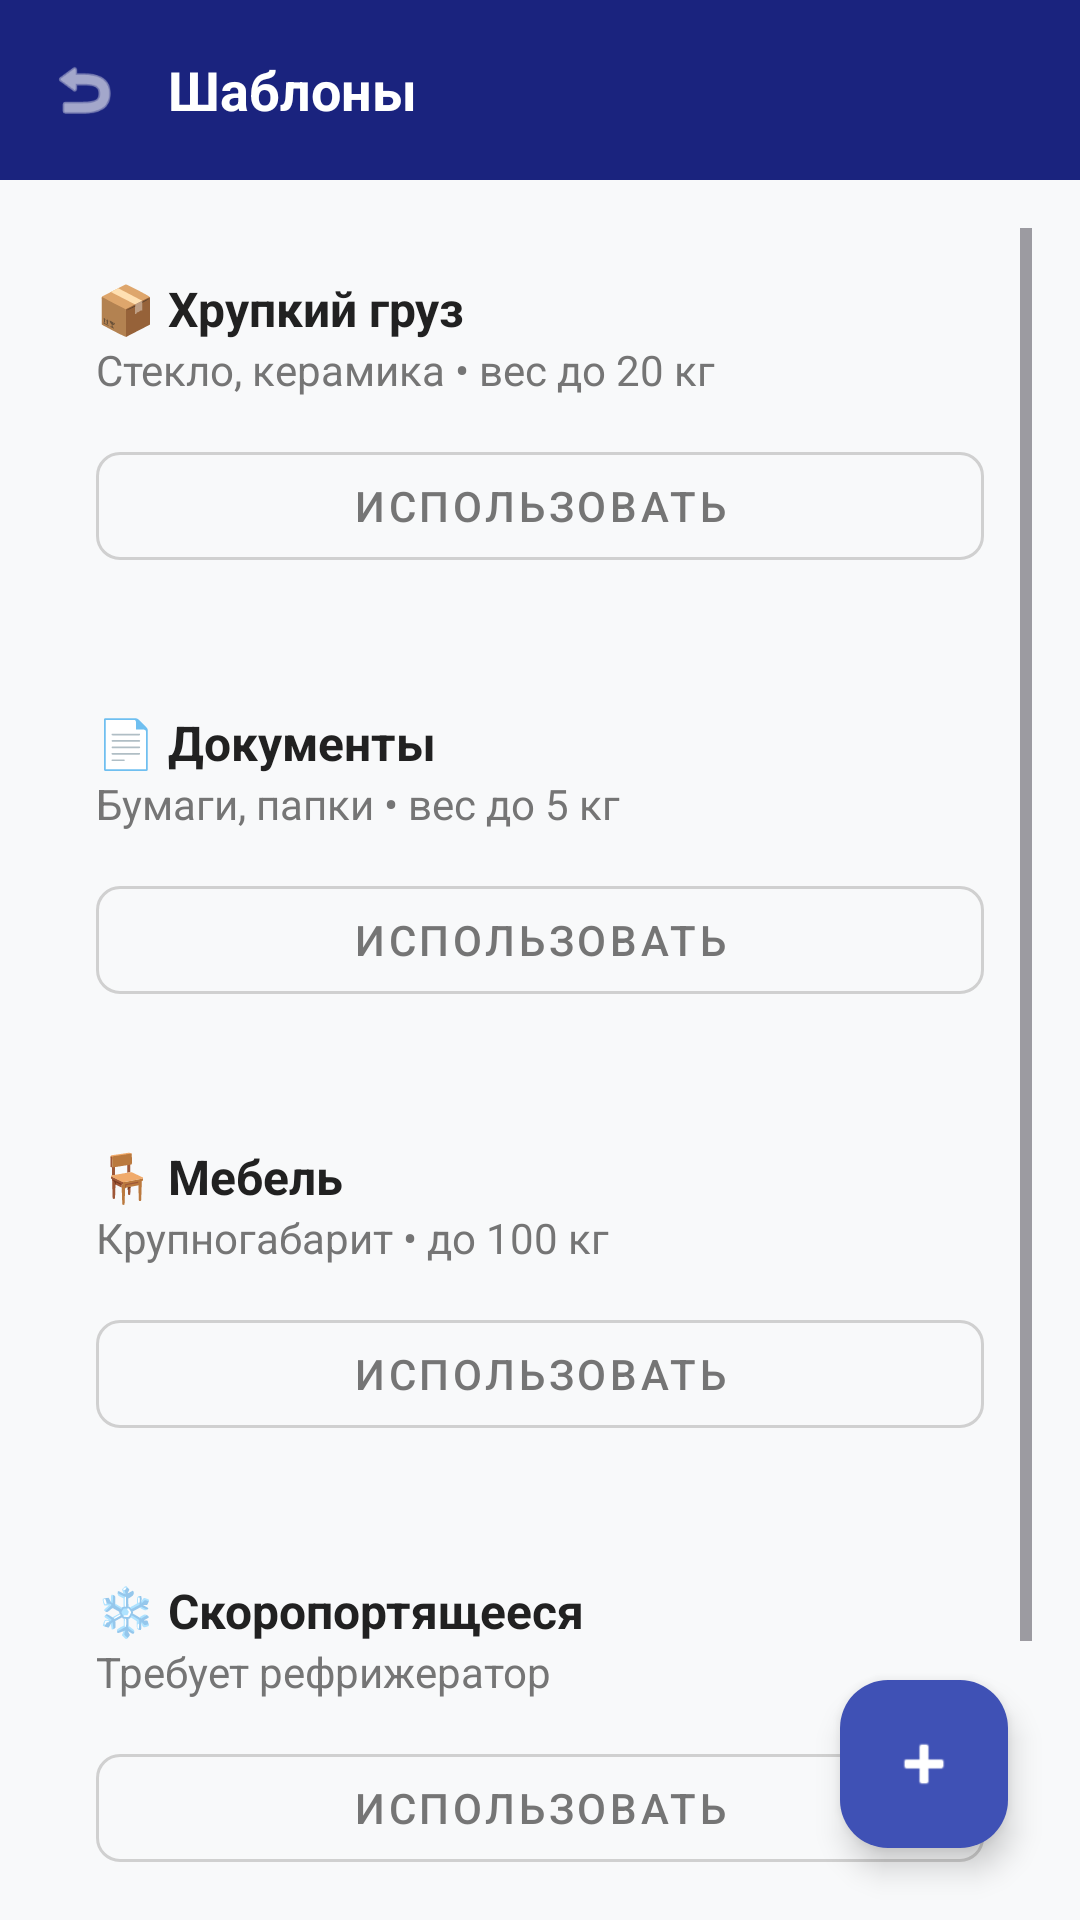

Locate icon controls on the screen. Image size 1080w x 1920h, boxes as (x1, y1, x2, y2).
add: (840, 1680, 1008, 1848)
revert: (59, 67, 111, 114)
